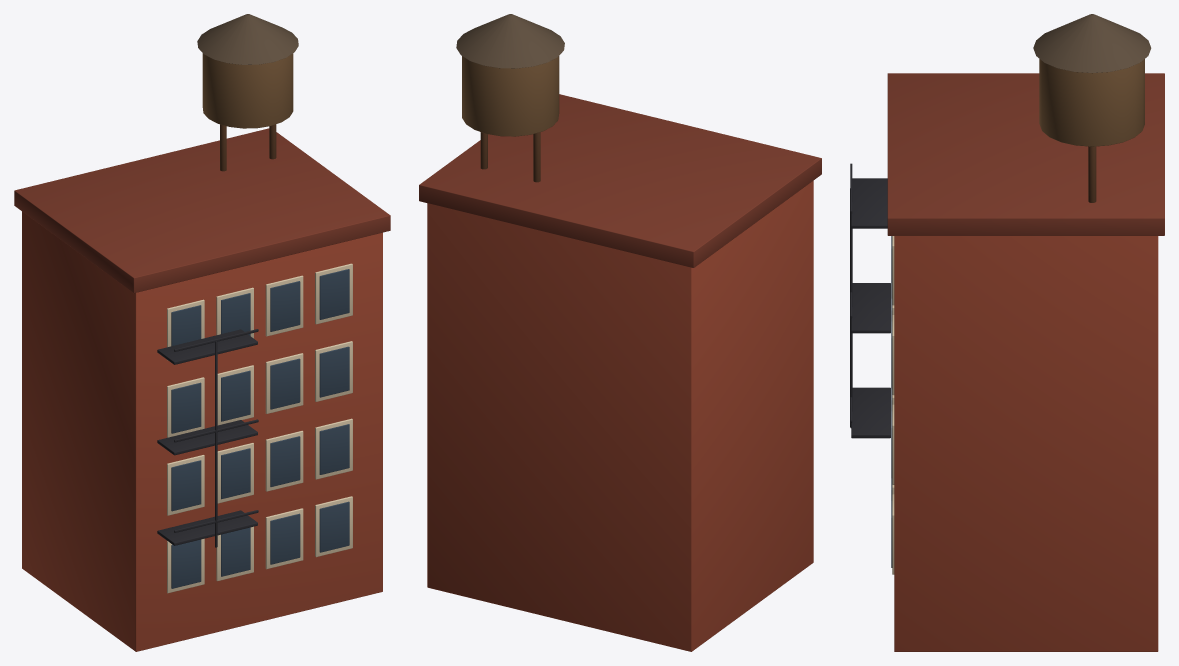
File: rg_eua_1.glb
The picture shows the model from 3 angles, left to right: view 1: azimuth 30°, elevation 25°; view 2: azimuth 150°, elevation 25°; view 3: azimuth 270°, elevation 25°; orthographic projection. The views are drawn at different scales.
Parts seen in each view (by area): view 1: rg_eua_1; view 2: rg_eua_1; view 3: rg_eua_1.
Boxes of the visible parts, x1,y1,x2,y2 form: rg_eua_1: (14,14,390,651); rg_eua_1: (419,14,821,651); rg_eua_1: (850,14,1164,651).
Bounding box in the file's own units: 10.4 × 20.35 × 9.54.
